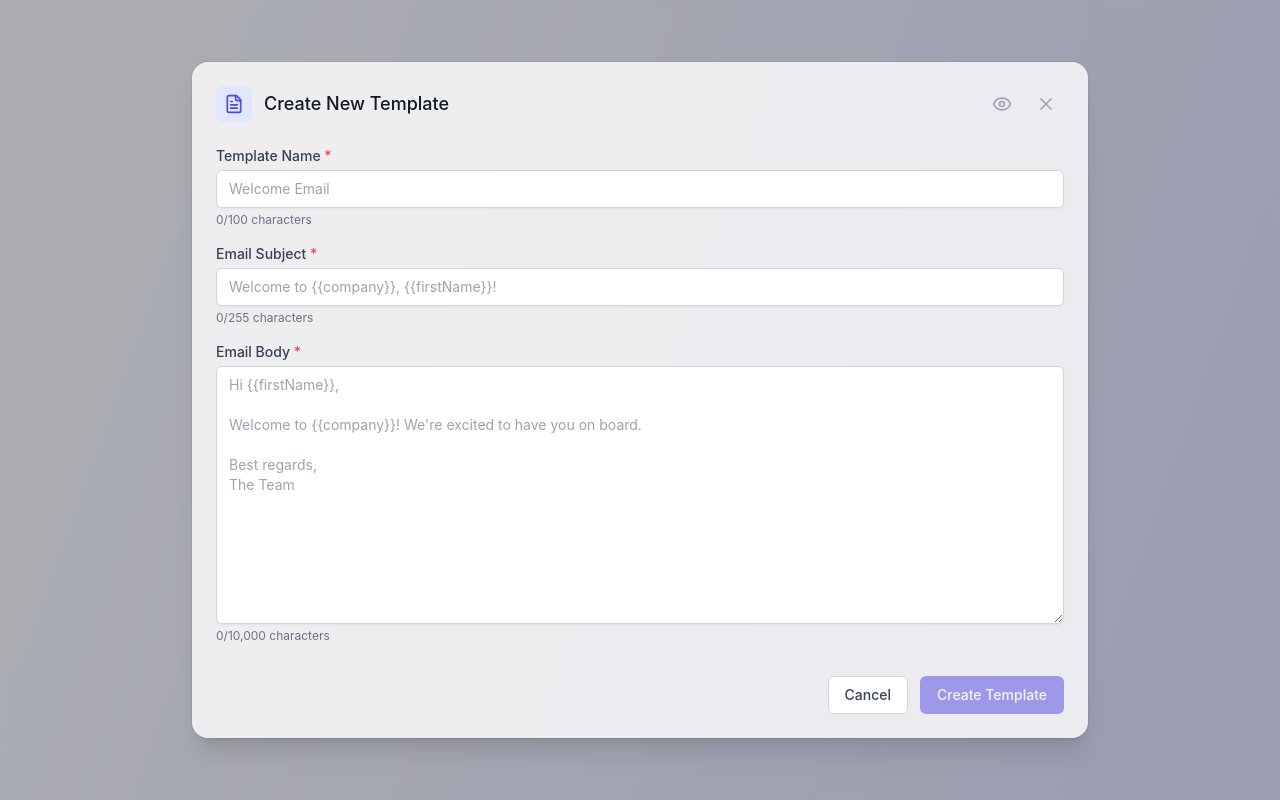
Scenario: AddTemplateModal › Form Interaction › should show preview when toggle is clicked
What coordinates should you click on to do the following:
click the button titled "preview"
I would click on:
 (1002, 104)
Its box is [984, 86, 1020, 122].
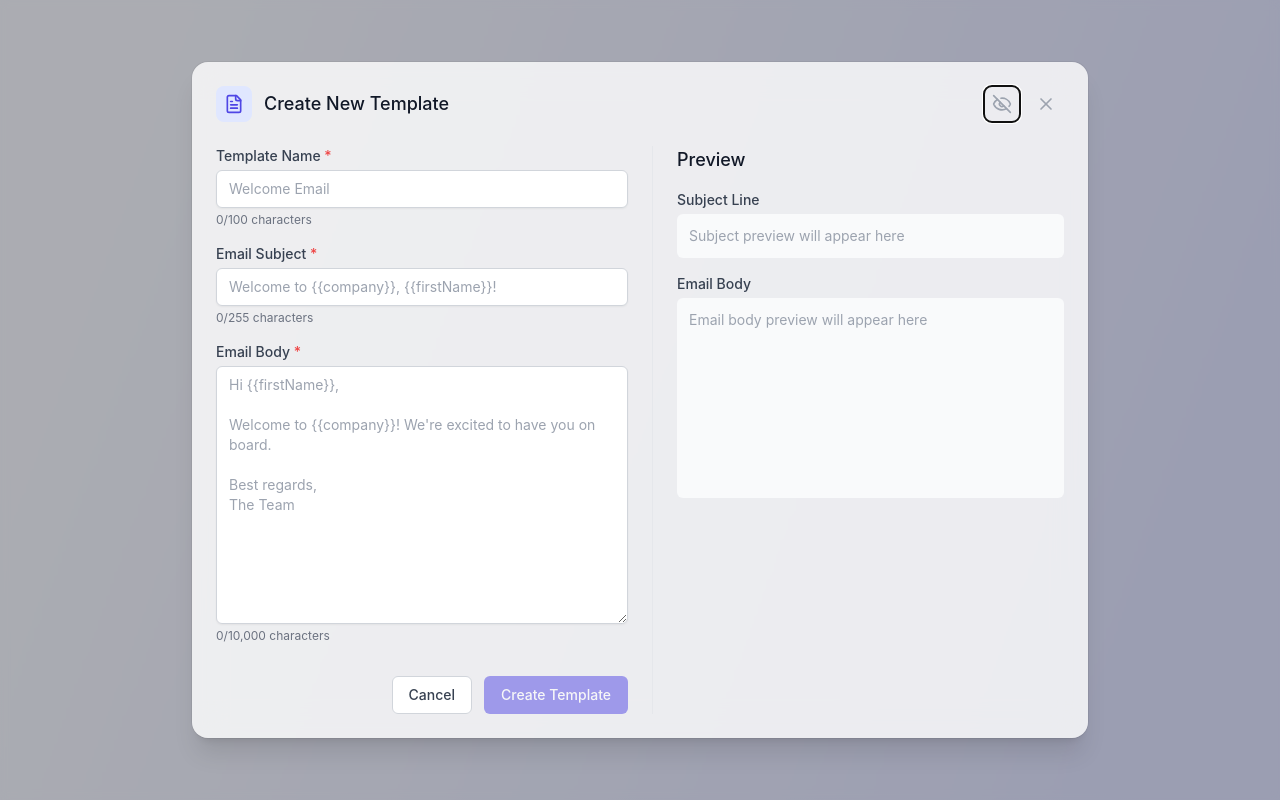
Expected: the text "Email Body *" is shown, [216, 343, 301, 360]
Expected: the heading "Preview" is shown, [677, 149, 746, 170]
Expected: the text "Subject Line" is shown, [677, 191, 760, 208]
